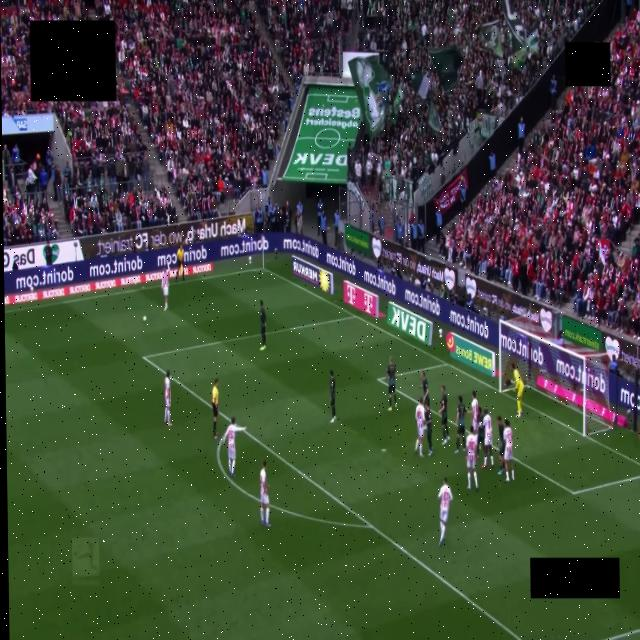ball: (143, 316, 146, 321)
player: (221, 417, 245, 477), (437, 478, 451, 546), (481, 408, 493, 469), (466, 425, 477, 491), (438, 385, 450, 445), (510, 364, 523, 417), (259, 461, 269, 527), (503, 420, 513, 481), (385, 357, 396, 411), (455, 396, 465, 453), (415, 397, 424, 456), (496, 416, 504, 474), (475, 408, 484, 457), (164, 370, 171, 426), (424, 406, 432, 455), (469, 391, 478, 433), (259, 300, 265, 351), (161, 268, 168, 311), (420, 370, 428, 405), (329, 370, 334, 423)
referee: (212, 379, 218, 439)
